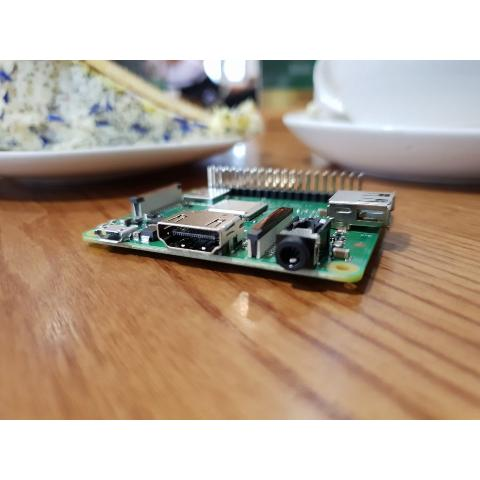Raspberry-Pi-1-Model-A-: (69, 149, 421, 303)
